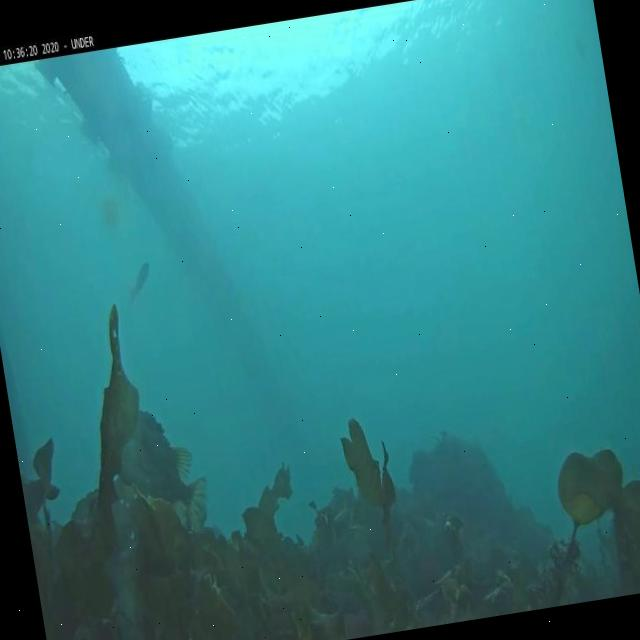fish: (111, 404, 217, 541), (124, 262, 154, 300)
